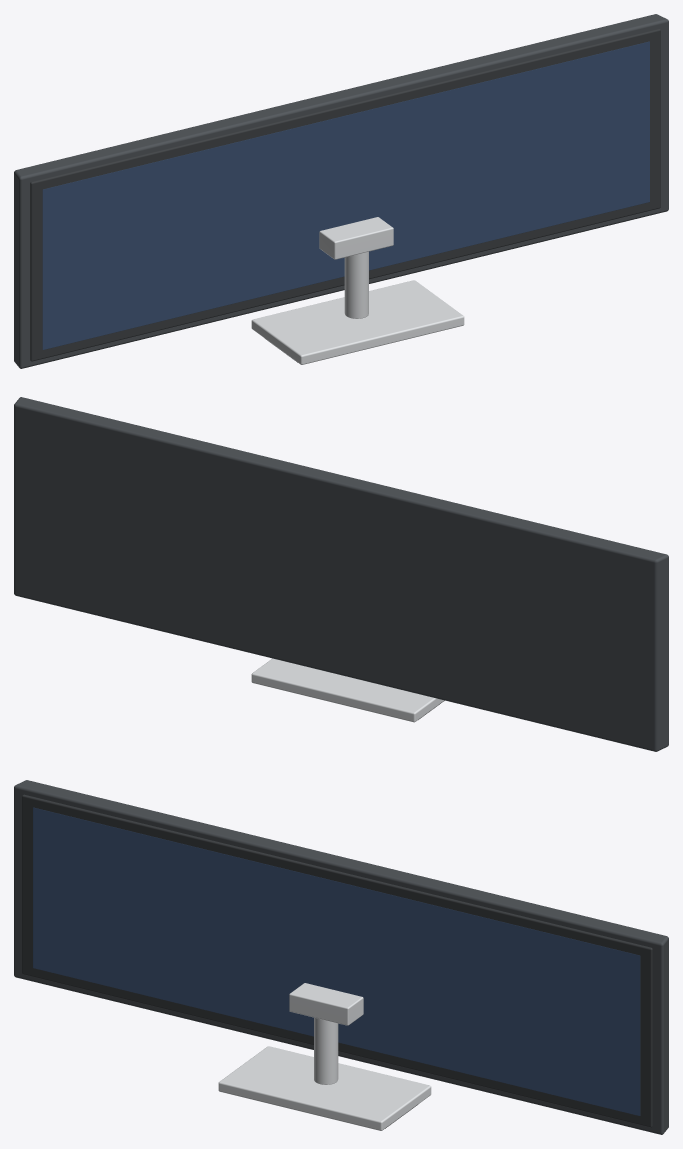
The model's file is ultrawide_monitor.glb.
3 views of the same model, one above another, from view 1: azimuth 30°, elevation 25°; view 2: azimuth 150°, elevation 25°; view 3: azimuth 330°, elevation 25° (orthographic).
Visible parts, largest first — view 1: Monitor_Screen, Monitor_BackShell, Monitor_Bezel, Monitor_Foot, Monitor_Neck, Monitor_Stem; view 2: Monitor_BackShell, Monitor_Foot; view 3: Monitor_Screen, Monitor_BackShell, Monitor_Bezel, Monitor_Foot, Monitor_Neck, Monitor_Stem.
Boxes of the visible parts, x1,y1,x2,y2 form: Monitor_Screen: (42, 41, 649, 349); Monitor_BackShell: (14, 14, 668, 368); Monitor_Bezel: (30, 28, 660, 361); Monitor_Foot: (251, 280, 464, 364); Monitor_Neck: (319, 217, 393, 259); Monitor_Stem: (344, 251, 368, 318); Monitor_BackShell: (14, 397, 668, 751); Monitor_Foot: (251, 658, 444, 722); Monitor_Screen: (33, 807, 640, 1115); Monitor_BackShell: (14, 780, 668, 1134); Monitor_Bezel: (22, 794, 652, 1127); Monitor_Foot: (218, 1046, 431, 1130); Monitor_Neck: (289, 983, 363, 1025); Monitor_Stem: (314, 1017, 338, 1084).
Bounding box in the file's own units: 5.23 × 1.72 × 0.7.
